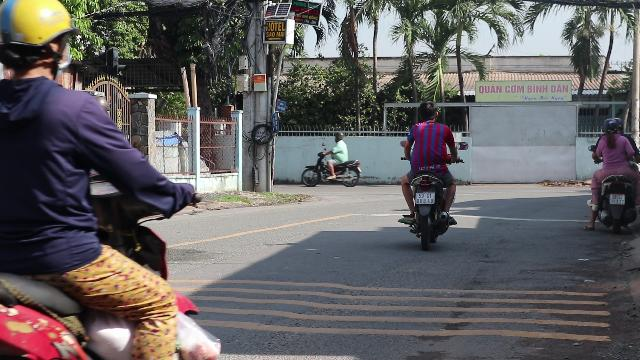helmet: (0, 0, 76, 82), (602, 117, 622, 134)
licenseplate: (416, 192, 434, 204), (610, 194, 624, 204)
motorcyclist: (0, 0, 212, 360), (396, 100, 460, 248), (584, 116, 640, 234)
nohelmet: (417, 100, 439, 124)
